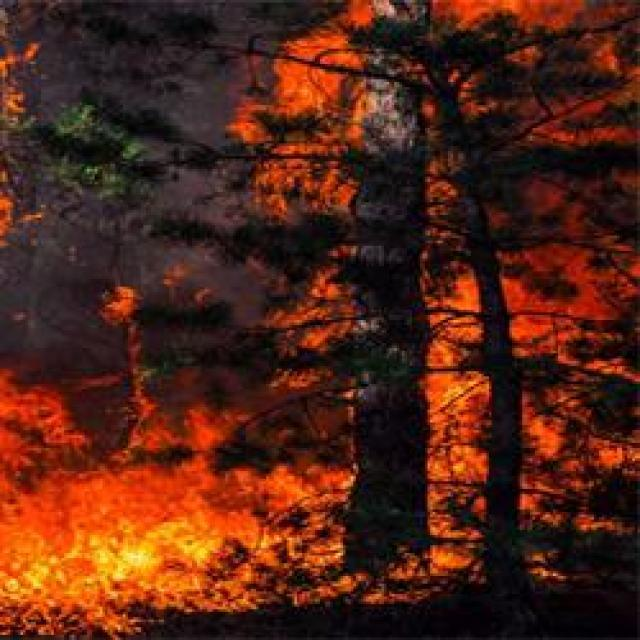Fire: (3, 376, 340, 640), (422, 268, 636, 590), (241, 0, 379, 223)
